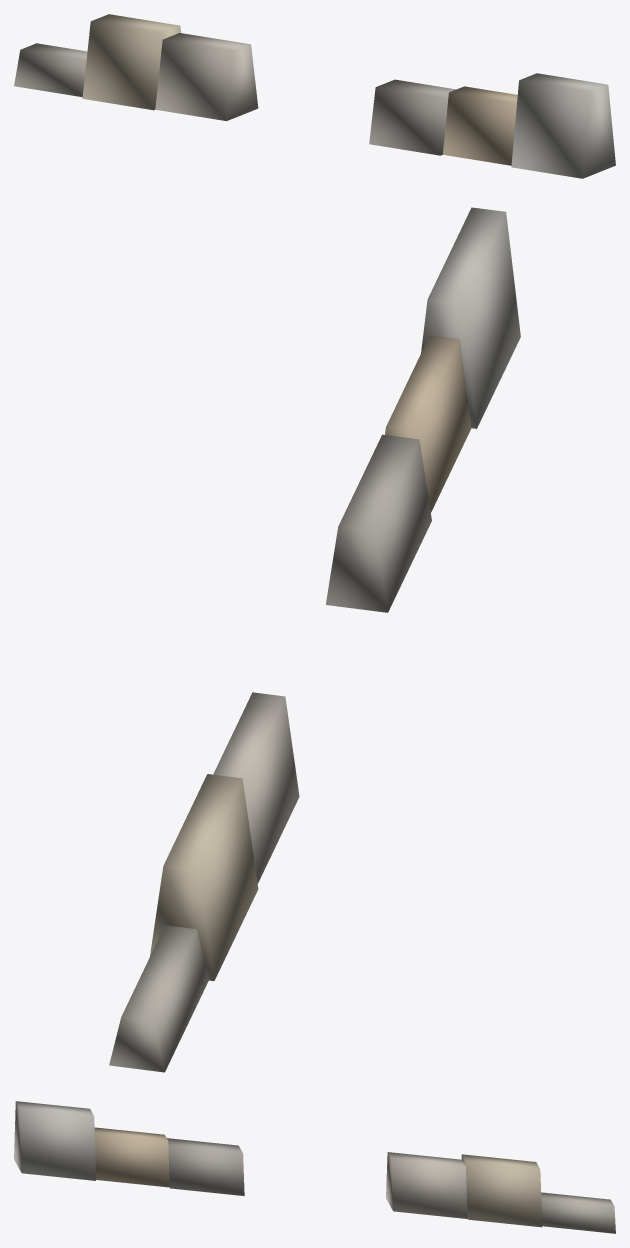
The model's file is farm_-28_-32_collision.glb.
The picture shows the model from 3 angles, top to bottom: view 1: azimuth 30°, elevation 25°; view 2: azimuth 150°, elevation 25°; view 3: azimuth 270°, elevation 25°; orthographic projection. The views are drawn at different scales.
Visible parts, largest first — view 1: geometry_0; view 2: geometry_0; view 3: geometry_0.
Part boxes in pixels (box(x1,y1,x2,y2)): geometry_0: box(14, 14, 615, 178); geometry_0: box(109, 207, 520, 1072); geometry_0: box(14, 1101, 615, 1233).
Size of the model in its own units: 3.56 by 4.19 by 12.54.
